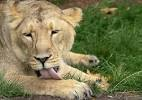lion: (3, 3, 111, 100)
